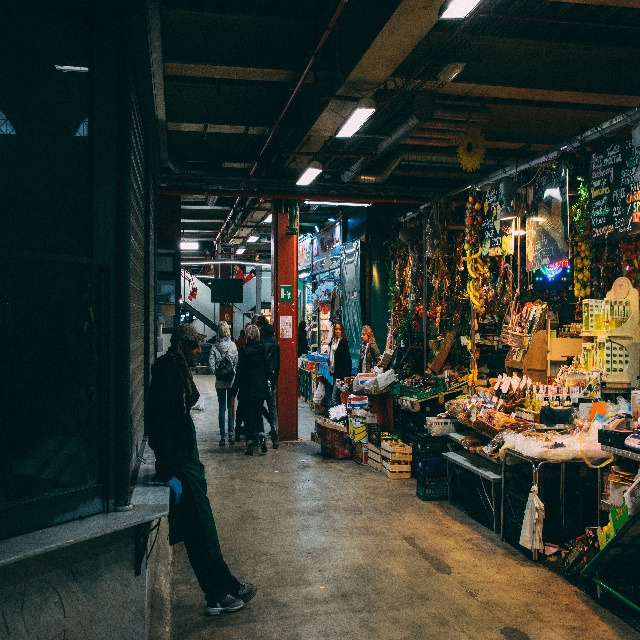Guantes: (165, 475, 182, 505)
Sin_guantes: (326, 356, 330, 368)
